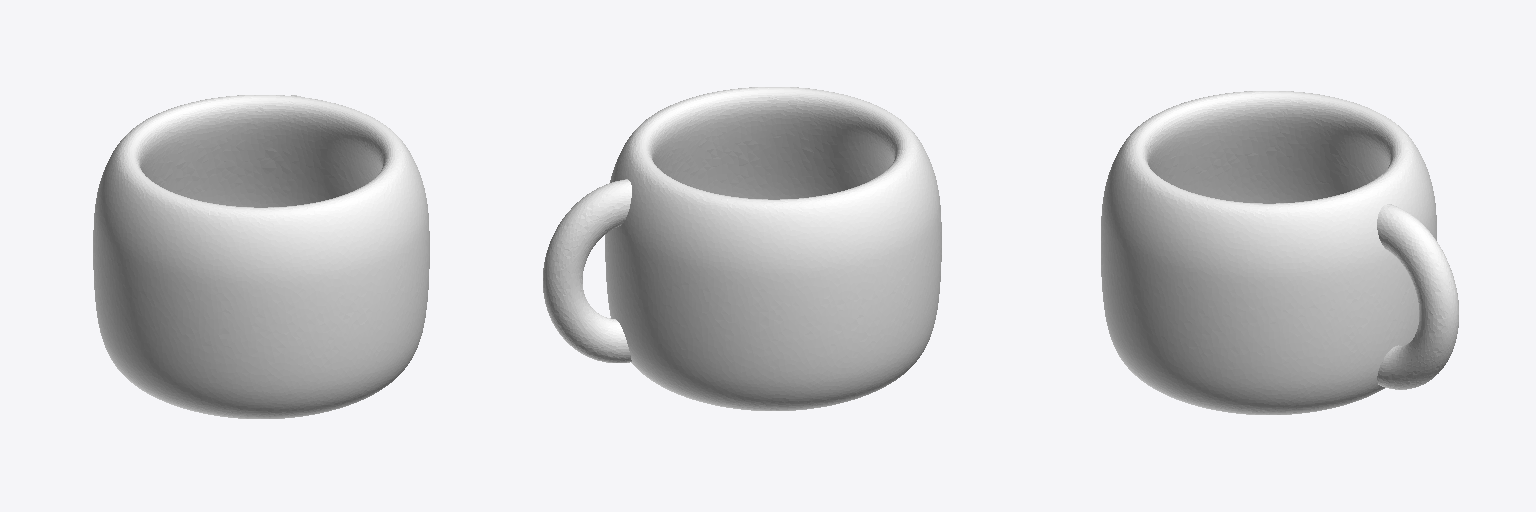
Rendered from cup.obj.
3 views of the same model, side by side, from view 1: azimuth 30°, elevation 25°; view 2: azimuth 150°, elevation 25°; view 3: azimuth 270°, elevation 25° (orthographic).
Visible parts, largest first — view 1: Volume5; view 2: Volume5; view 3: Volume5.
Part boxes in pixels (bbox=[...]): Volume5: bbox=[93, 95, 429, 418]; Volume5: bbox=[543, 87, 941, 410]; Volume5: bbox=[1101, 91, 1458, 414].
Bounding box in the file's own units: 41.35 × 29.2 × 44.04.